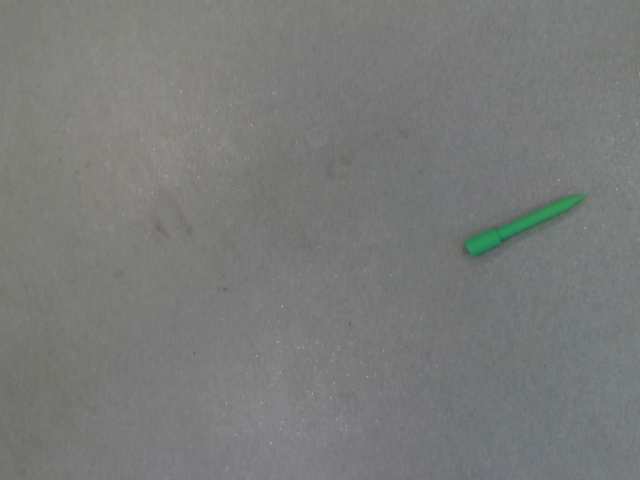Probe: (460, 188, 594, 260)
